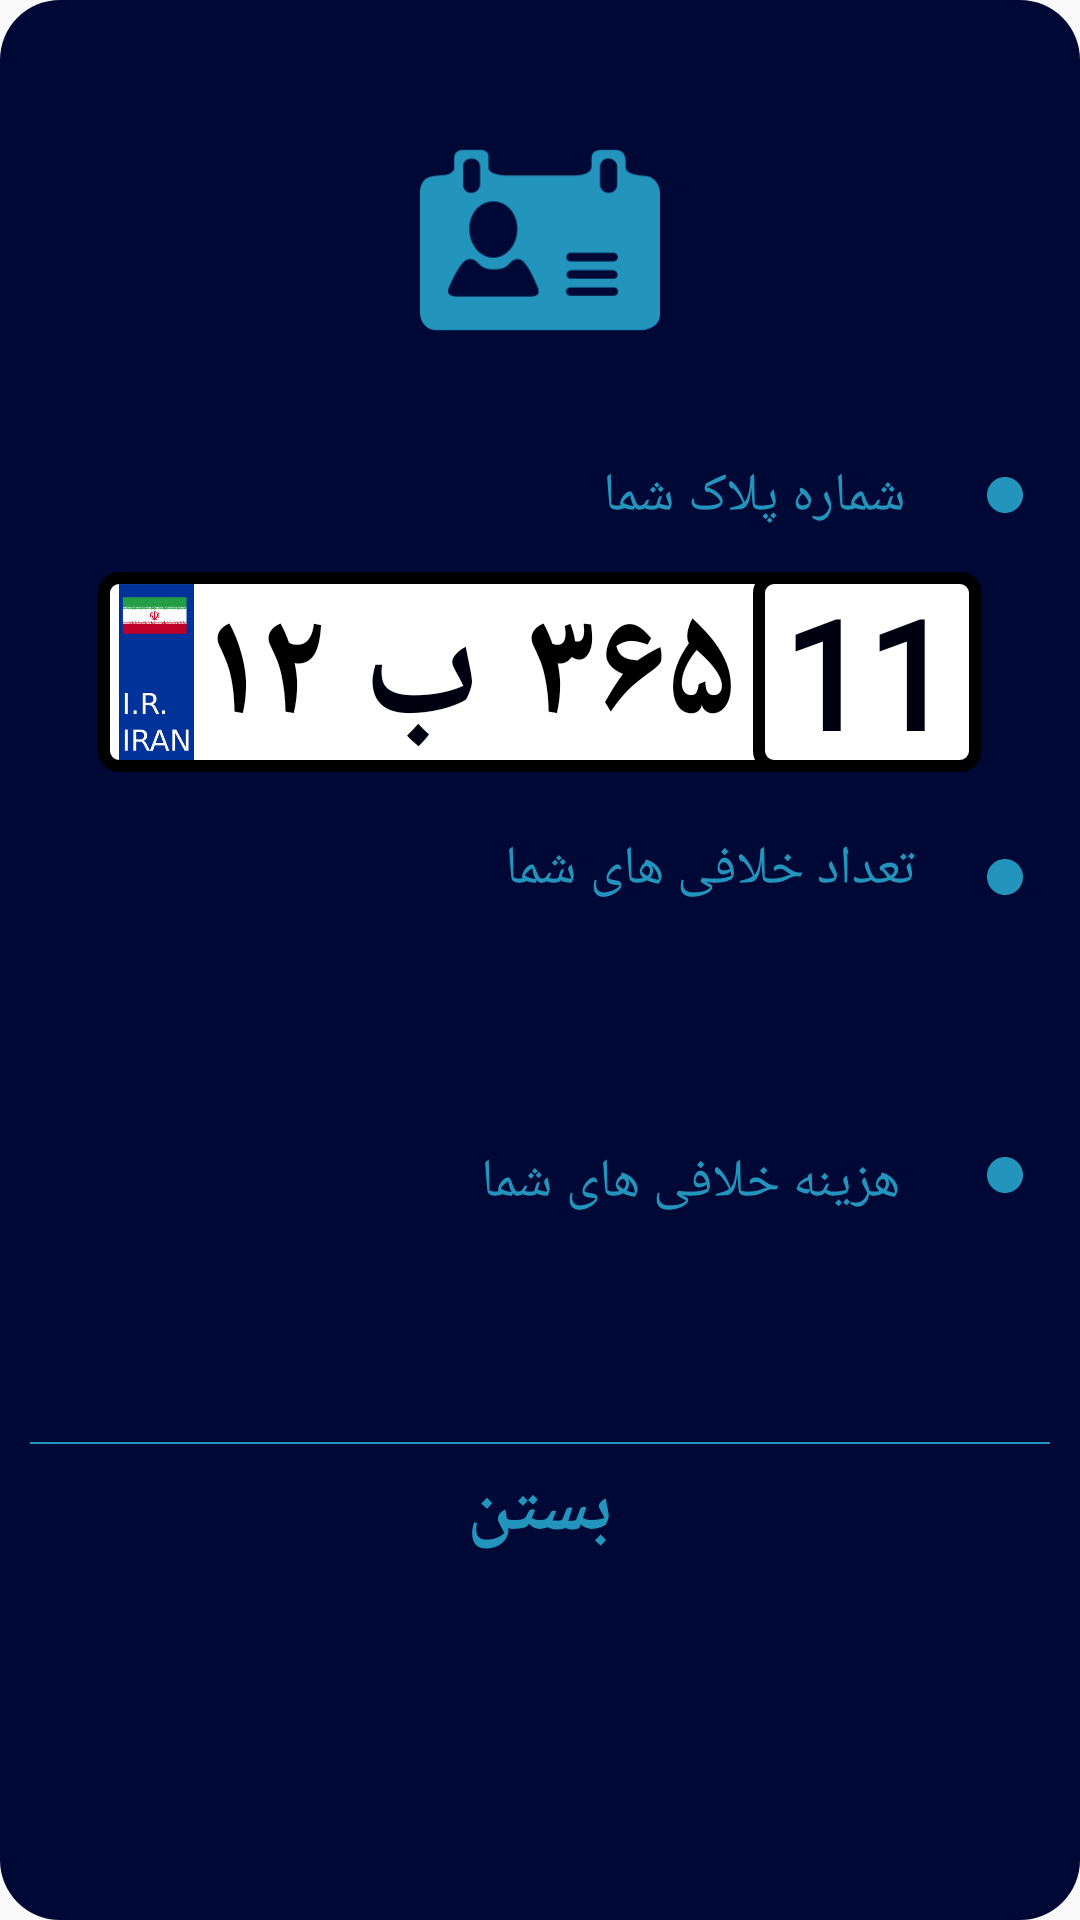

Icon click points for this 1080px x 1920px phone screenshot, format (x=x, y=y):
profile: (x=540, y=240)
